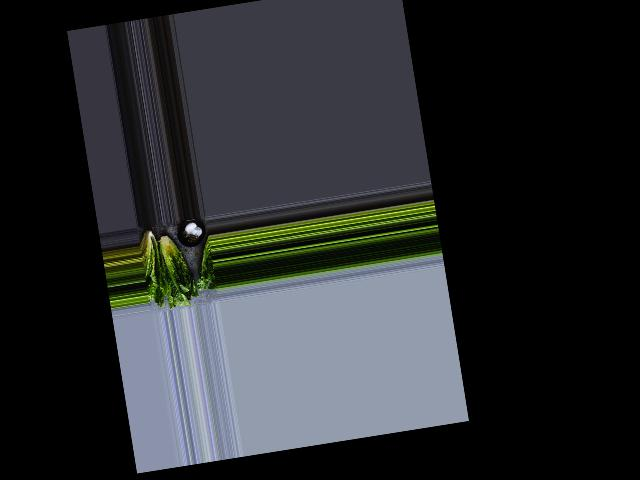lettuce: (137, 224, 169, 302)
